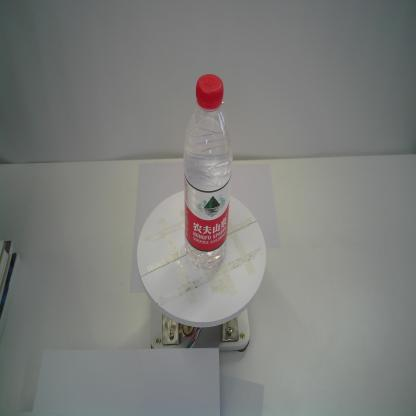Drink: (182, 73, 233, 269)
